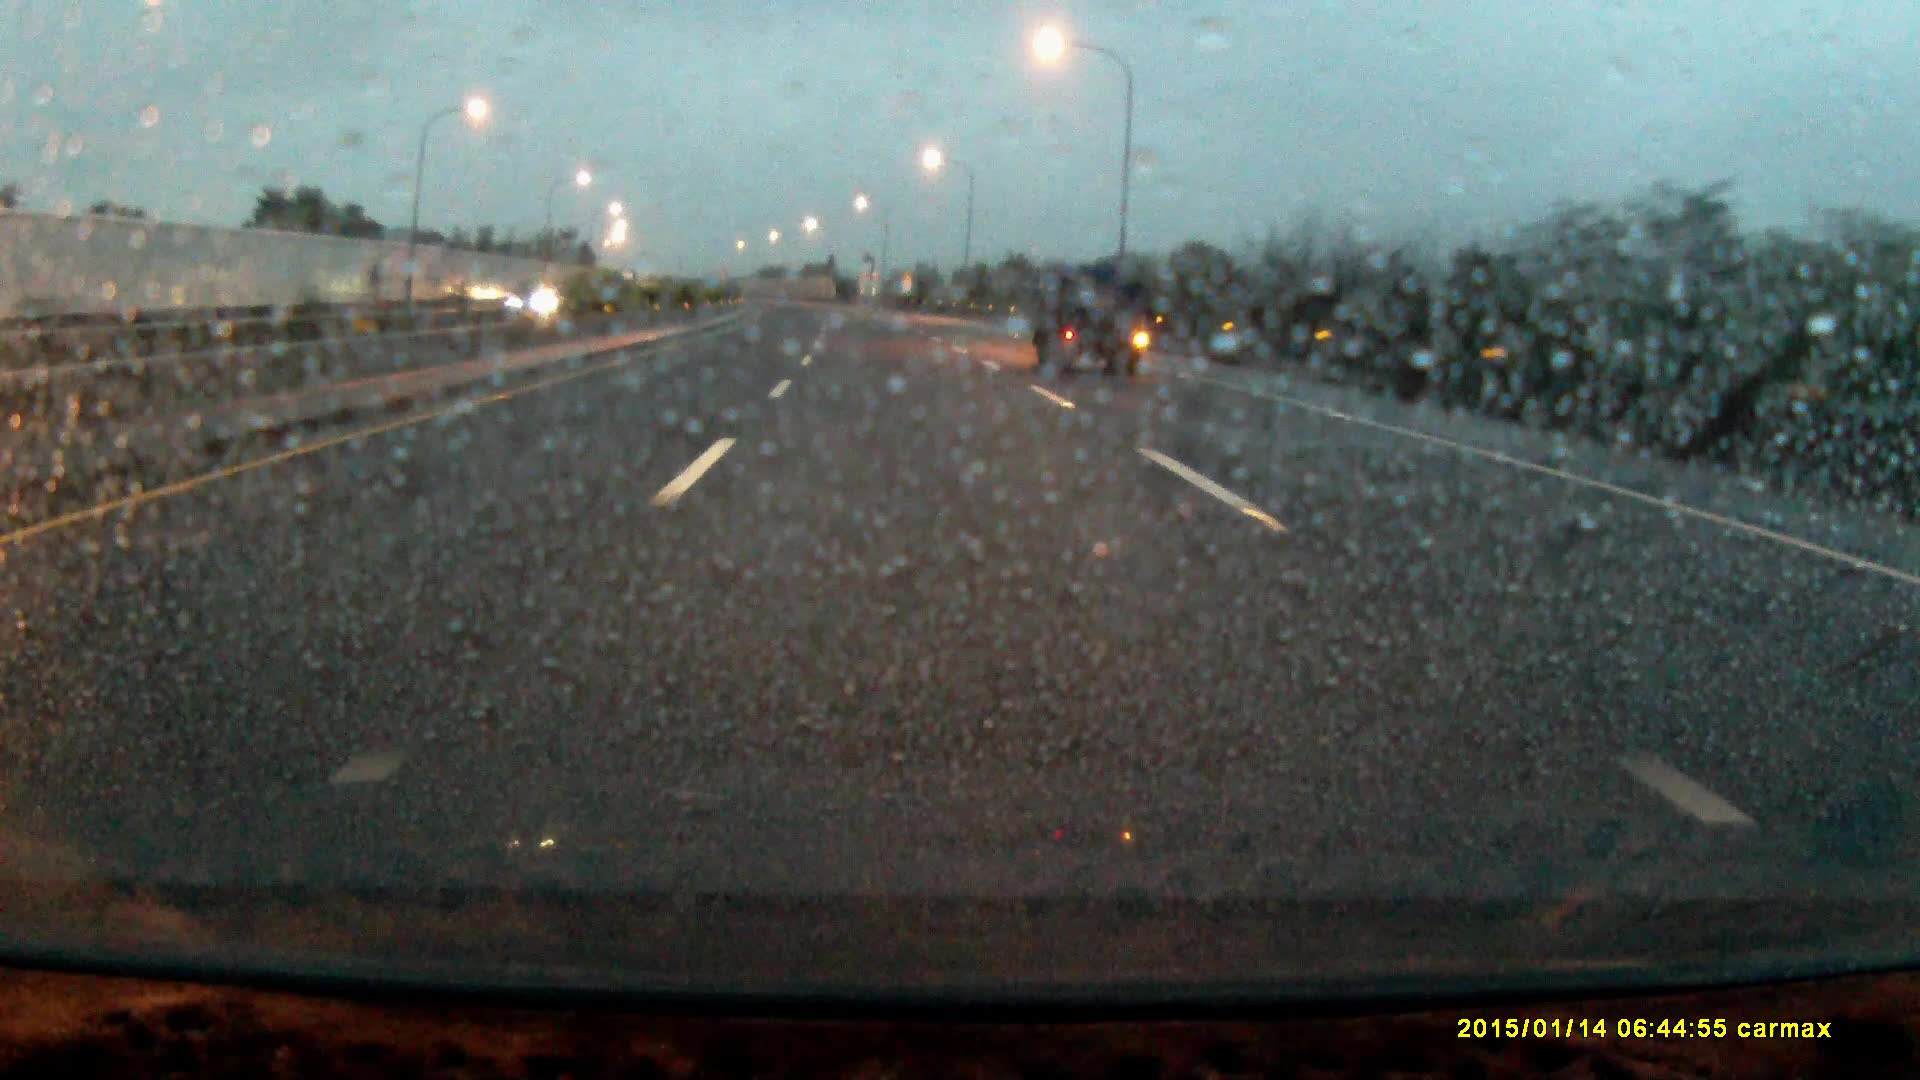vehicle: (1036, 272, 1146, 378), (504, 281, 567, 319)
